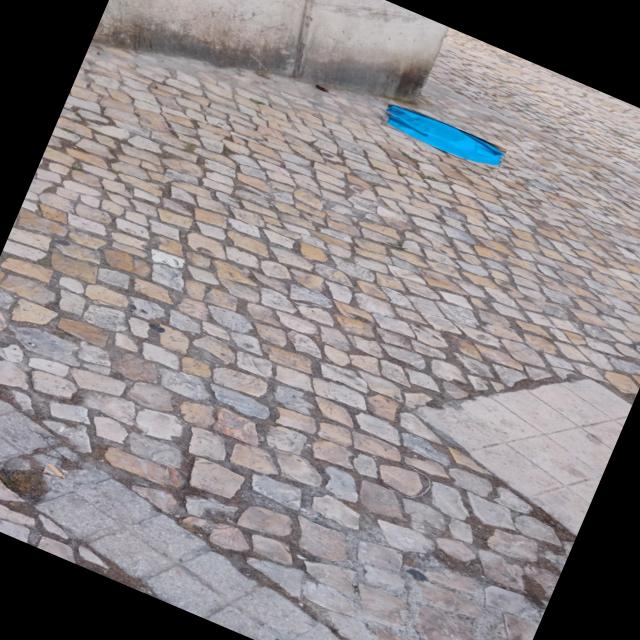Cigarette: (167, 467, 181, 489), (46, 465, 64, 478)
Single-use carrier bag: (385, 106, 504, 165)
